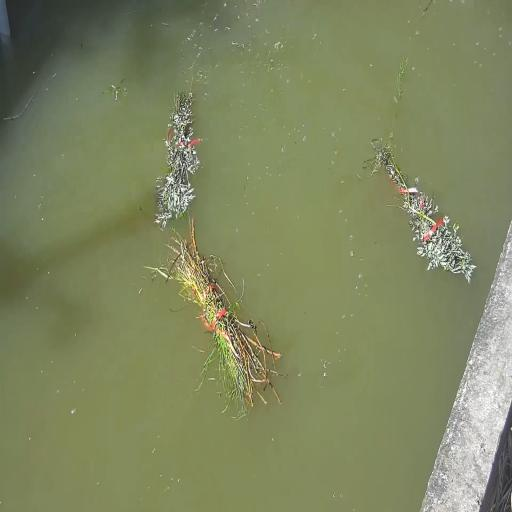twig: (151, 217, 281, 412), (365, 139, 476, 282), (155, 90, 201, 228)
